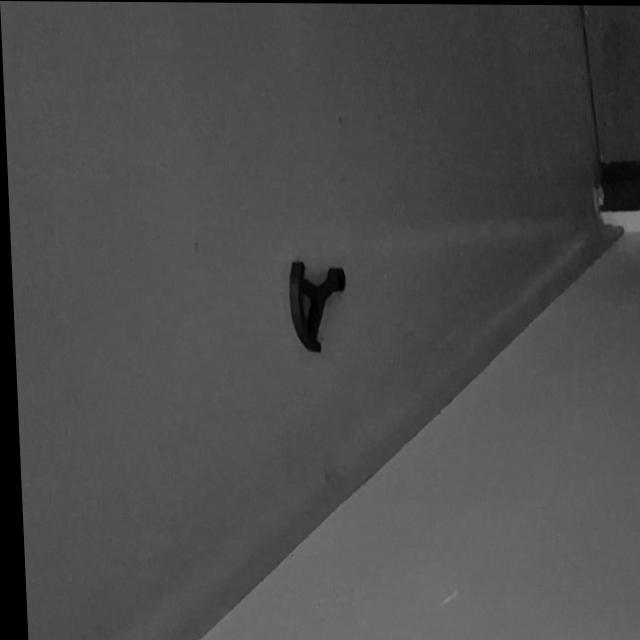haptic: (287, 259, 350, 354)
